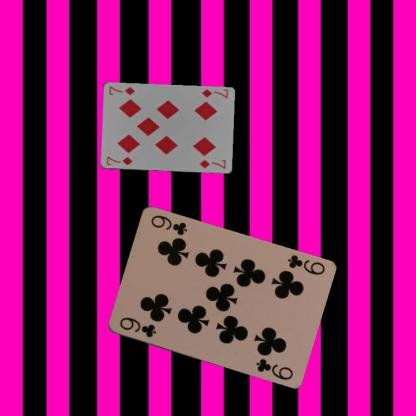7d: (199, 87, 229, 99), (104, 154, 133, 166)
9c: (284, 252, 326, 277), (117, 314, 157, 339)
